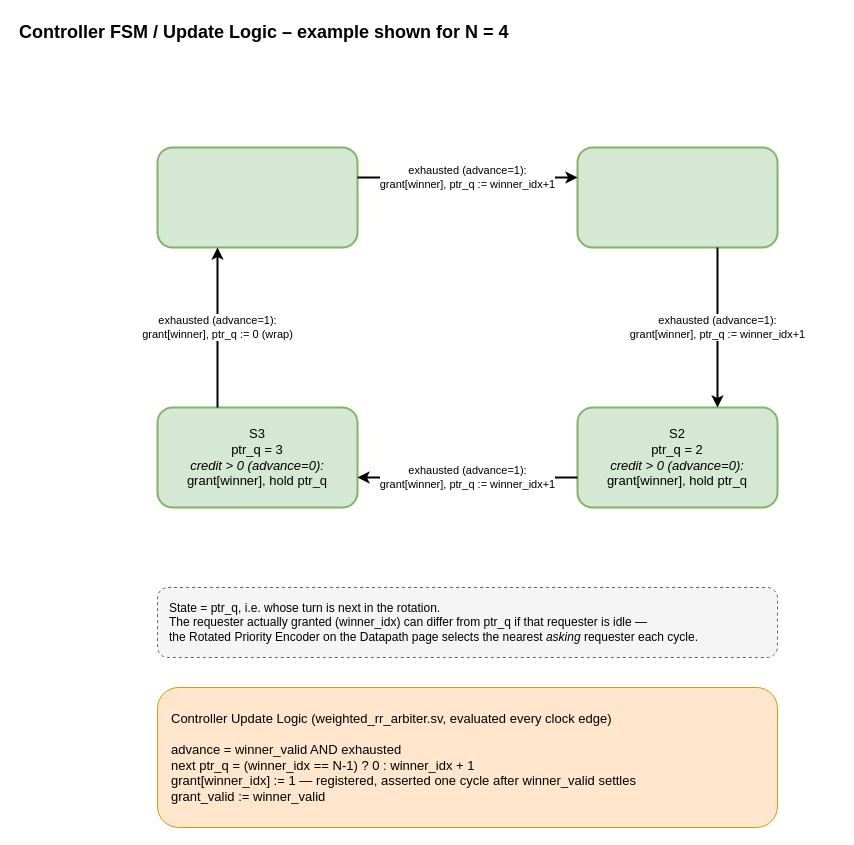
This 854x845 diagram has some shape labels left out. Each missing label, with the centre of its shape:
"S0 ptr_q = 0 credit > 0 (advance=0): grant[winner], hold ptr_q" goes at (257,197).
"S1 ptr_q = 1 credit > 0 (advance=0): grant[winner], hold ptr_q" goes at (677,197).
